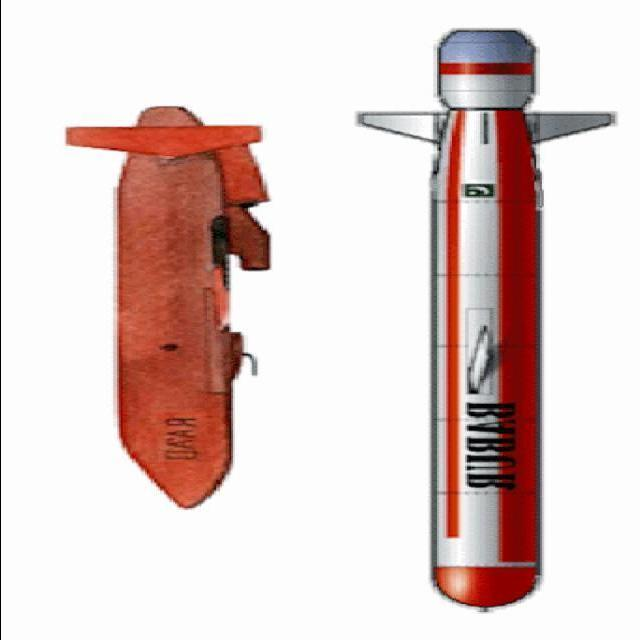Missile: (346, 16, 621, 613)
